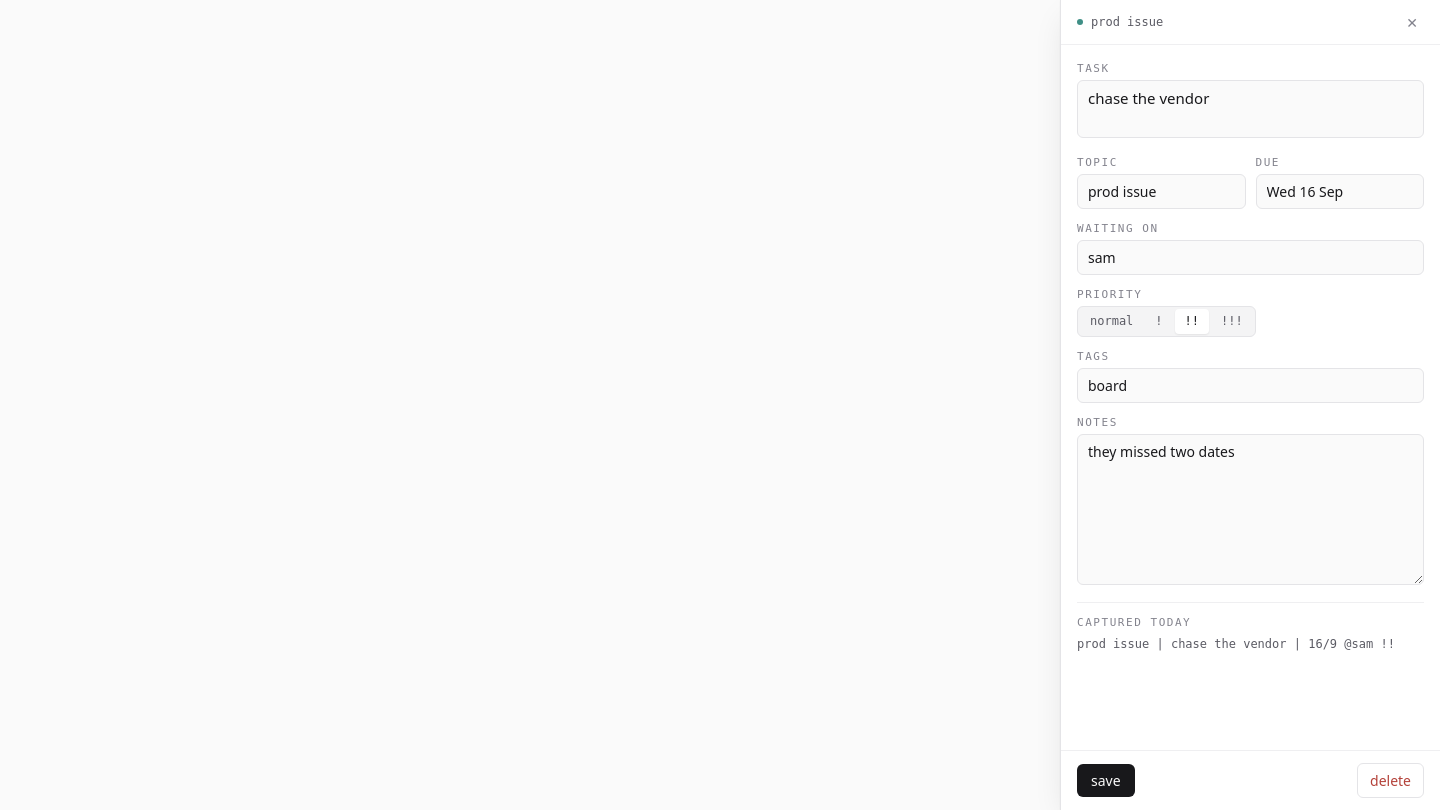
Test: the detail panel › keeps your edits on screen when the server refuses one field
Replace the text in the text box showing "chase the vendor" with "renamed" at (1250, 109), box x1=1077 y1=80 x2=1424 y2=138
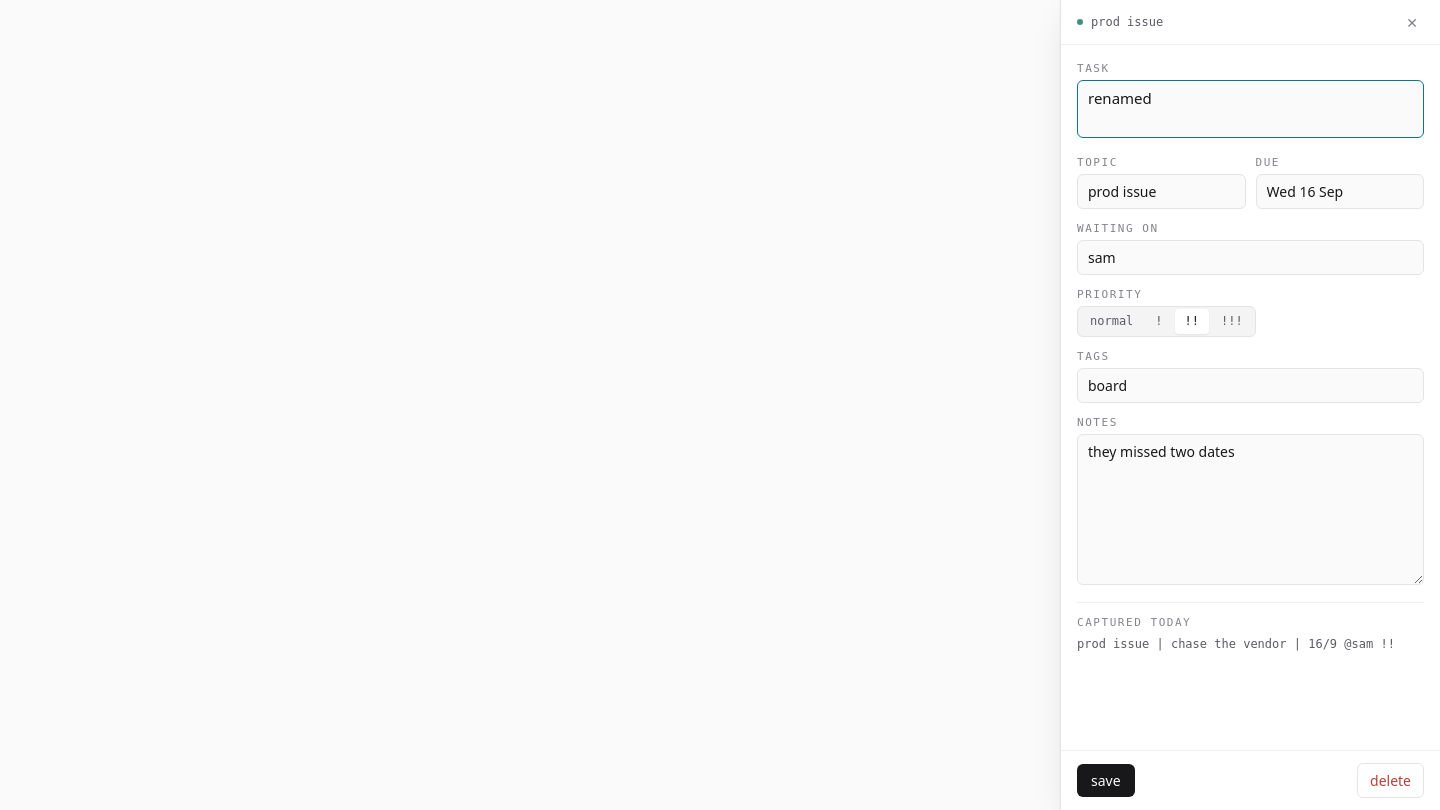
Click the button "save" at (1106, 780), box x1=1077 y1=764 x2=1135 y2=797
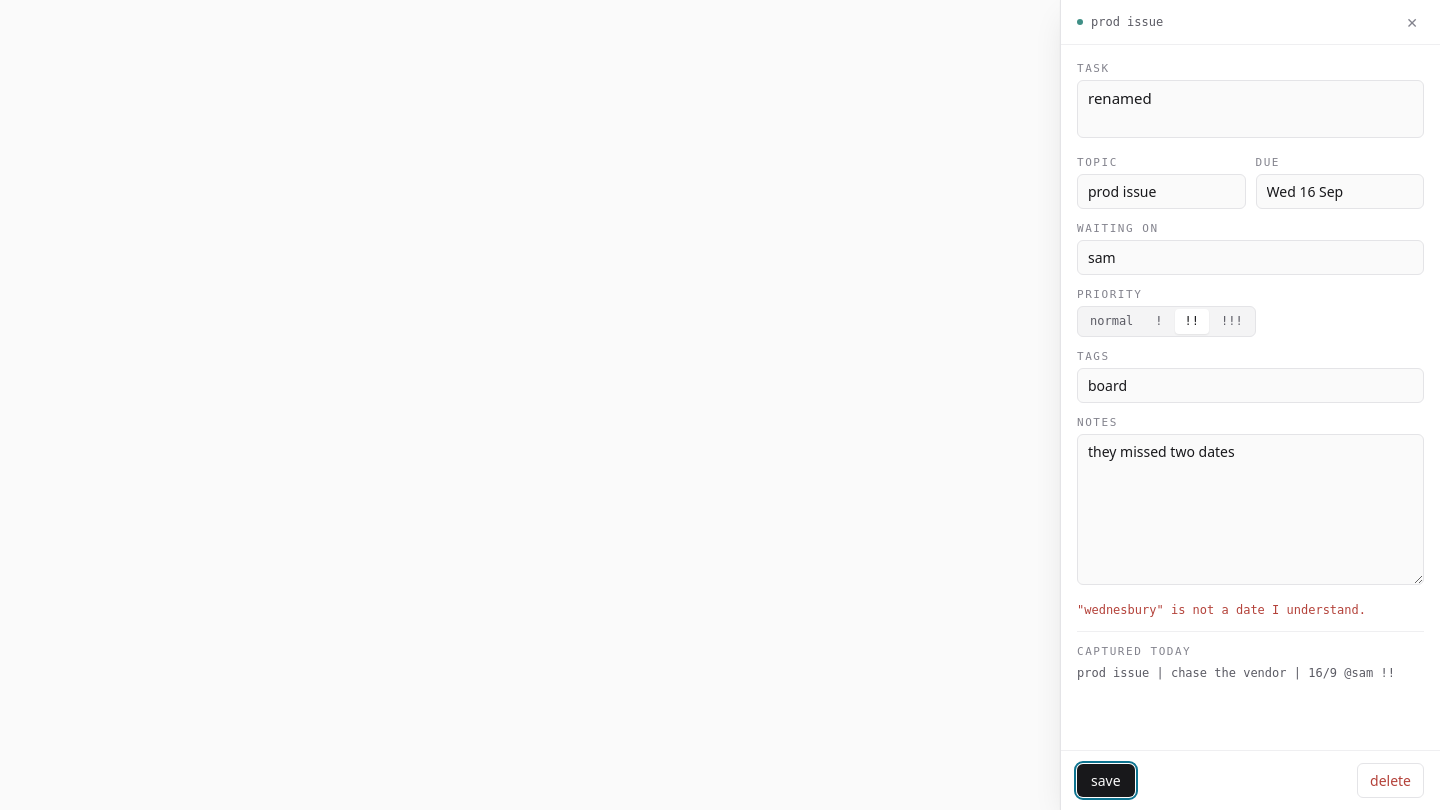
expect the text "\"wednesbury\" is not a date I understand." is shown: met, box x1=1077 y1=602 x2=1366 y2=616
